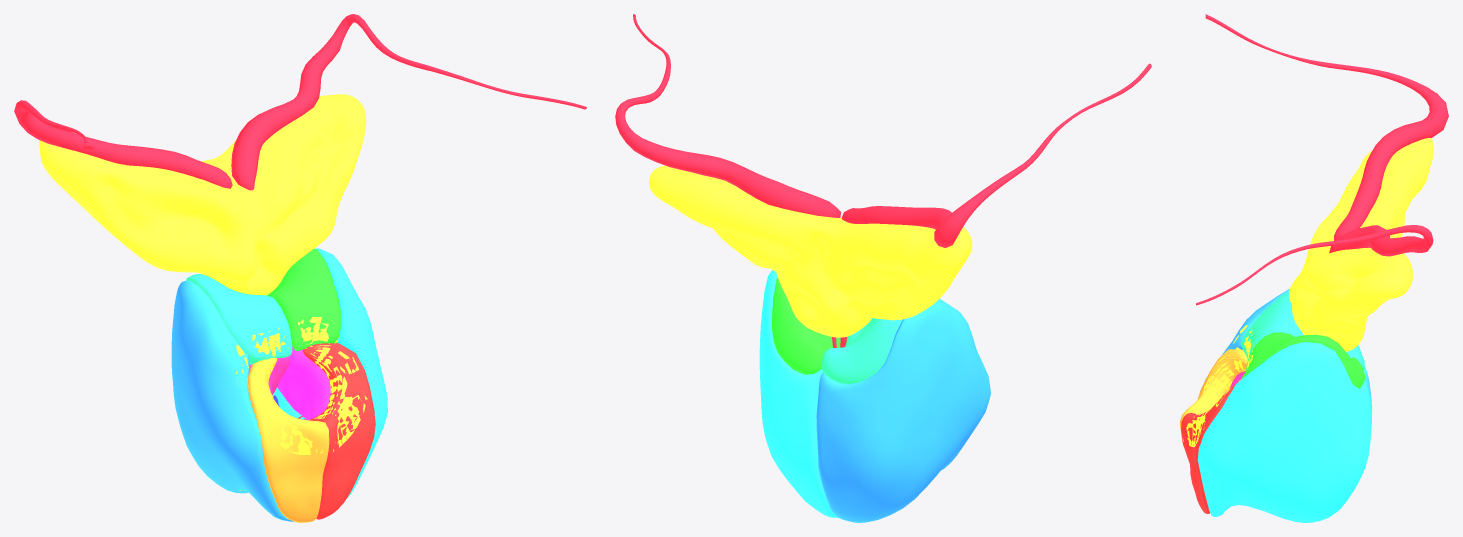
File: prostata-male.glb
3 views of the same model, side by side, from view 1: azimuth 30°, elevation 25°; view 2: azimuth 150°, elevation 25°; view 3: azimuth 270°, elevation 25° (orthographic). The views are drawn at different scales.
Parts seen in each view (by area): view 1: 0:1:VH_M_seminal_vesicle, 0:15:VH_M_peripheral_zone_of_prostate_R, 0:7:VH_M_anterior_fibromuscular_stroma_R, 0:6:VH_M_anterior_fibromuscular_stroma_L, 0:3:VH_M_vas_deferens_R, 0:2:VH_M_vas_deferens_L, 0:11:VH_M_central_zone_of_prostate_L, 0:14:VH_M_peripheral_zone_of_prostate_L, 0:12:VH_M_central_zone_of_prostate_R, 0:10:VH_M_base_of_prostate, 0:22:VH_M_transition_zone__of_prostate_L; view 2: 0:15:VH_M_peripheral_zone_of_prostate_R, 0:1:VH_M_seminal_vesicle, 0:14:VH_M_peripheral_zone_of_prostate_L, 0:3:VH_M_vas_deferens_R, 0:2:VH_M_vas_deferens_L, 0:12:VH_M_central_zone_of_prostate_R, 0:11:VH_M_central_zone_of_prostate_L; view 3: 0:14:VH_M_peripheral_zone_of_prostate_L, 0:1:VH_M_seminal_vesicle, 0:2:VH_M_vas_deferens_L, 0:3:VH_M_vas_deferens_R, 0:11:VH_M_central_zone_of_prostate_L, 0:12:VH_M_central_zone_of_prostate_R, 0:6:VH_M_anterior_fibromuscular_stroma_L, 0:7:VH_M_anterior_fibromuscular_stroma_R, 0:10:VH_M_base_of_prostate, 0:15:VH_M_peripheral_zone_of_prostate_R.
Boxes of the visible parts, x1,y1,x2,y2 form: 0:1:VH_M_seminal_vesicle: [39, 94, 366, 295]; 0:15:VH_M_peripheral_zone_of_prostate_R: [171, 280, 293, 521]; 0:7:VH_M_anterior_fibromuscular_stroma_R: [248, 357, 329, 522]; 0:6:VH_M_anterior_fibromuscular_stroma_L: [303, 343, 375, 519]; 0:3:VH_M_vas_deferens_R: [231, 14, 586, 190]; 0:2:VH_M_vas_deferens_L: [14, 100, 232, 188]; 0:11:VH_M_central_zone_of_prostate_L: [267, 248, 340, 387]; 0:14:VH_M_peripheral_zone_of_prostate_L: [272, 248, 387, 499]; 0:12:VH_M_central_zone_of_prostate_R: [186, 274, 292, 364]; 0:10:VH_M_base_of_prostate: [236, 317, 367, 454]; 0:22:VH_M_transition_zone__of_prostate_L: [277, 346, 330, 420]; 0:15:VH_M_peripheral_zone_of_prostate_R: [816, 299, 990, 522]; 0:1:VH_M_seminal_vesicle: [649, 165, 972, 337]; 0:14:VH_M_peripheral_zone_of_prostate_L: [759, 270, 837, 517]; 0:3:VH_M_vas_deferens_R: [615, 14, 841, 217]; 0:2:VH_M_vas_deferens_L: [841, 63, 1151, 247]; 0:12:VH_M_central_zone_of_prostate_R: [821, 318, 902, 383]; 0:11:VH_M_central_zone_of_prostate_L: [772, 277, 848, 374]; 0:14:VH_M_peripheral_zone_of_prostate_L: [1197, 342, 1371, 522]; 0:1:VH_M_seminal_vesicle: [1289, 138, 1433, 351]; 0:2:VH_M_vas_deferens_L: [1205, 14, 1448, 240]; 0:3:VH_M_vas_deferens_R: [1196, 225, 1433, 305]; 0:11:VH_M_central_zone_of_prostate_L: [1241, 332, 1365, 388]; 0:12:VH_M_central_zone_of_prostate_R: [1241, 292, 1364, 369]; 0:6:VH_M_anterior_fibromuscular_stroma_L: [1181, 379, 1240, 513]; 0:7:VH_M_anterior_fibromuscular_stroma_R: [1180, 349, 1247, 443]; 0:10:VH_M_base_of_prostate: [1182, 325, 1253, 447]; 0:15:VH_M_peripheral_zone_of_prostate_R: [1200, 289, 1371, 409].
Bounding box in the file's own units: 0.083 × 0.0706 × 0.0428.
